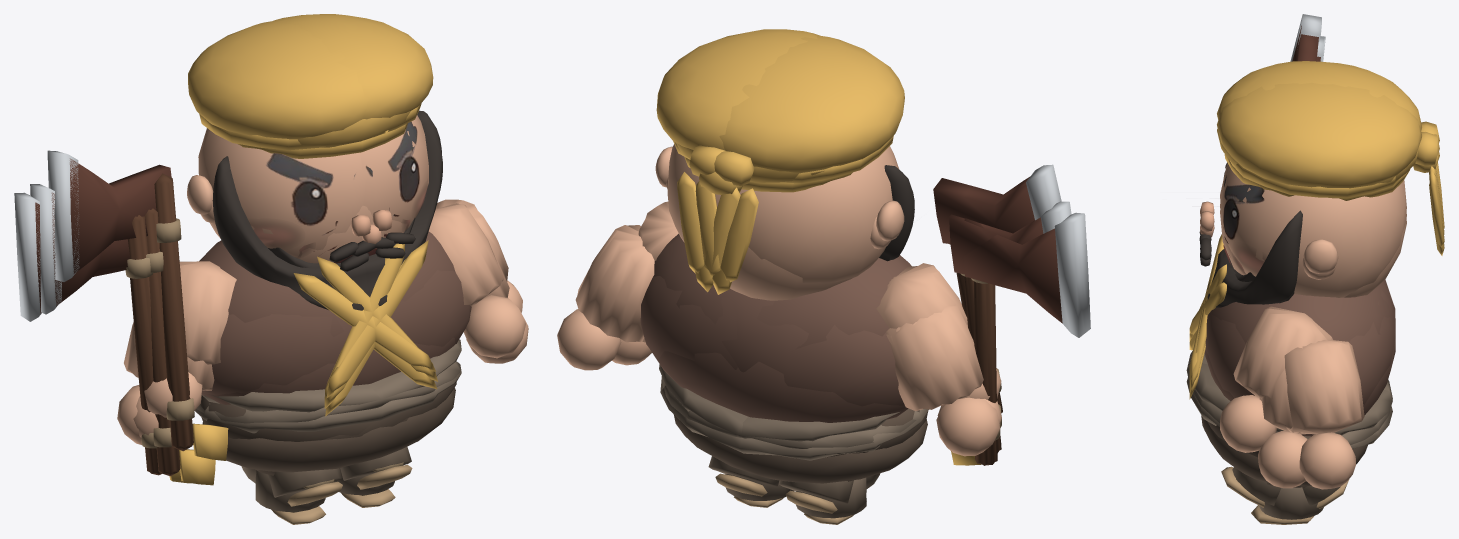
The model's file is yt_rusher_poses.glb.
3 views of the same model, side by side, from view 1: azimuth 30°, elevation 25°; view 2: azimuth 150°, elevation 25°; view 3: azimuth 270°, elevation 25° (orthographic). The views are drawn at different scales.
Visible parts, largest first — view 1: pose_1, pose_3, pose_0; view 2: pose_1, pose_3, pose_0; view 3: pose_3, pose_1, pose_0.
Part boxes in pixels (<box>): pose_1: <box>14,20,525,489</box>; pose_3: <box>47,14,522,506</box>; pose_0: <box>30,111,528,524</box>; pose_1: <box>638,35,1090,513</box>; pose_3: <box>557,29,1061,496</box>; pose_0: <box>612,141,1071,524</box>; pose_3: <box>1187,14,1444,508</box>; pose_1: <box>1186,36,1444,507</box>; pose_0: <box>1186,37,1444,524</box>.
Size of the model in its own units: 1.64 by 1.42 by 0.9944.
14 materials, 1 textured.
